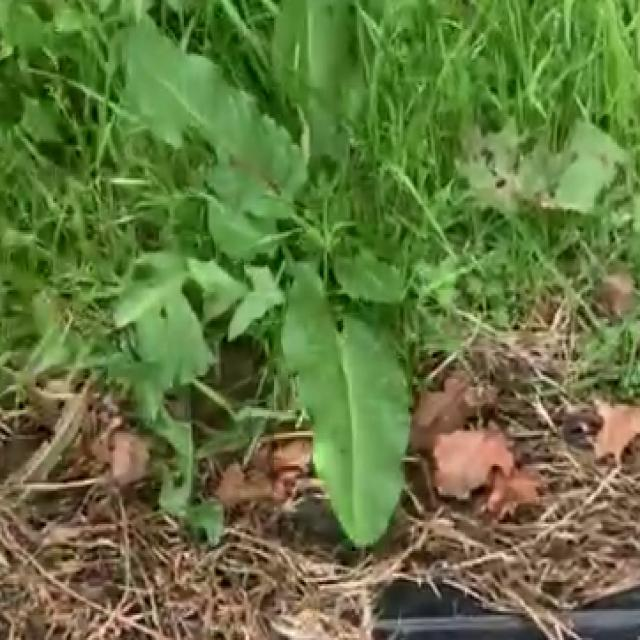organic waste: (106, 0, 552, 597)
